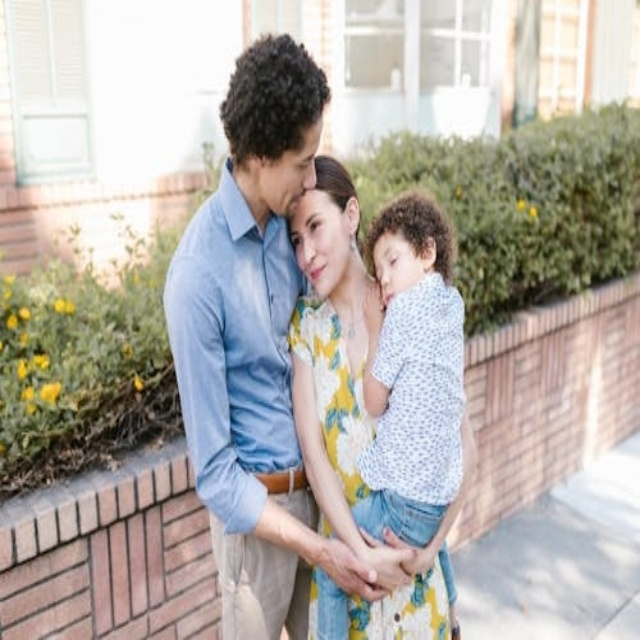Sin_gafas: (283, 144, 320, 179), (291, 211, 326, 248), (374, 240, 402, 281)
Sin_guantes: (314, 530, 379, 611), (351, 526, 422, 597)
Sin_mascara: (305, 252, 333, 292), (278, 186, 305, 219), (383, 284, 398, 300)
